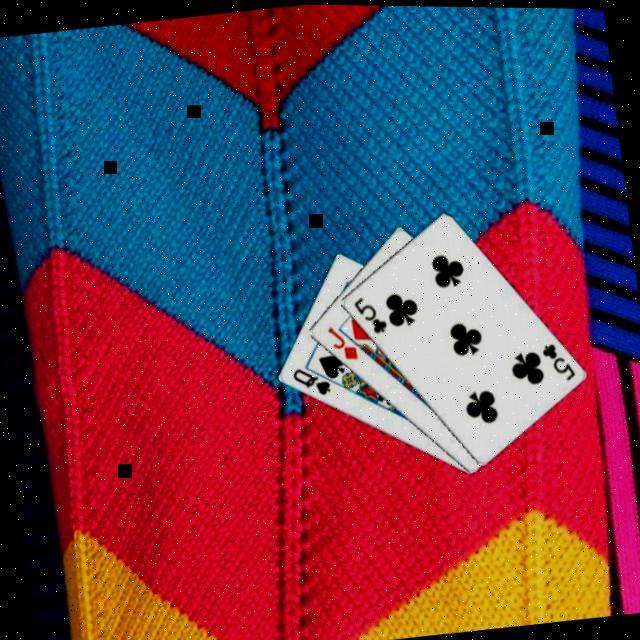5C: (351, 291, 392, 339), (539, 338, 580, 385)
JD: (325, 322, 362, 366)
QS: (290, 362, 336, 402)
